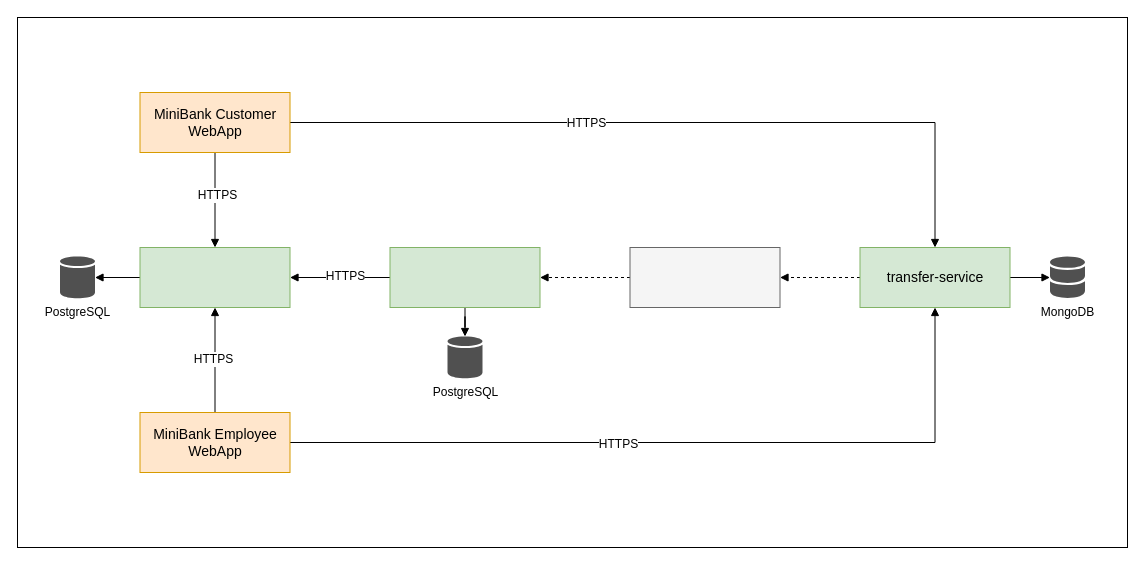
Image size: 1145x565. Some labels were removed from this diagram. Here are the shapes that lost their labels. From the top down, the centre of each, then its label:
At [214,277]: "account-service".
At [464,277]: "settlement-service".
At [704,277]: "Message Broker".
